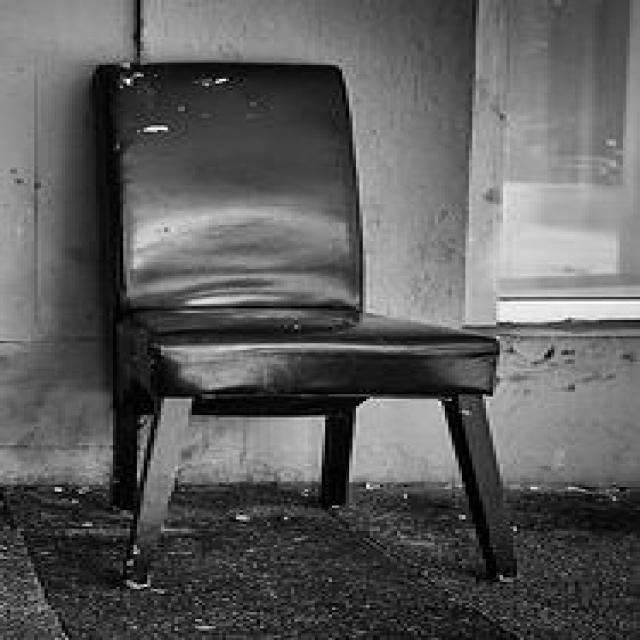chair: (89, 60, 517, 587)
